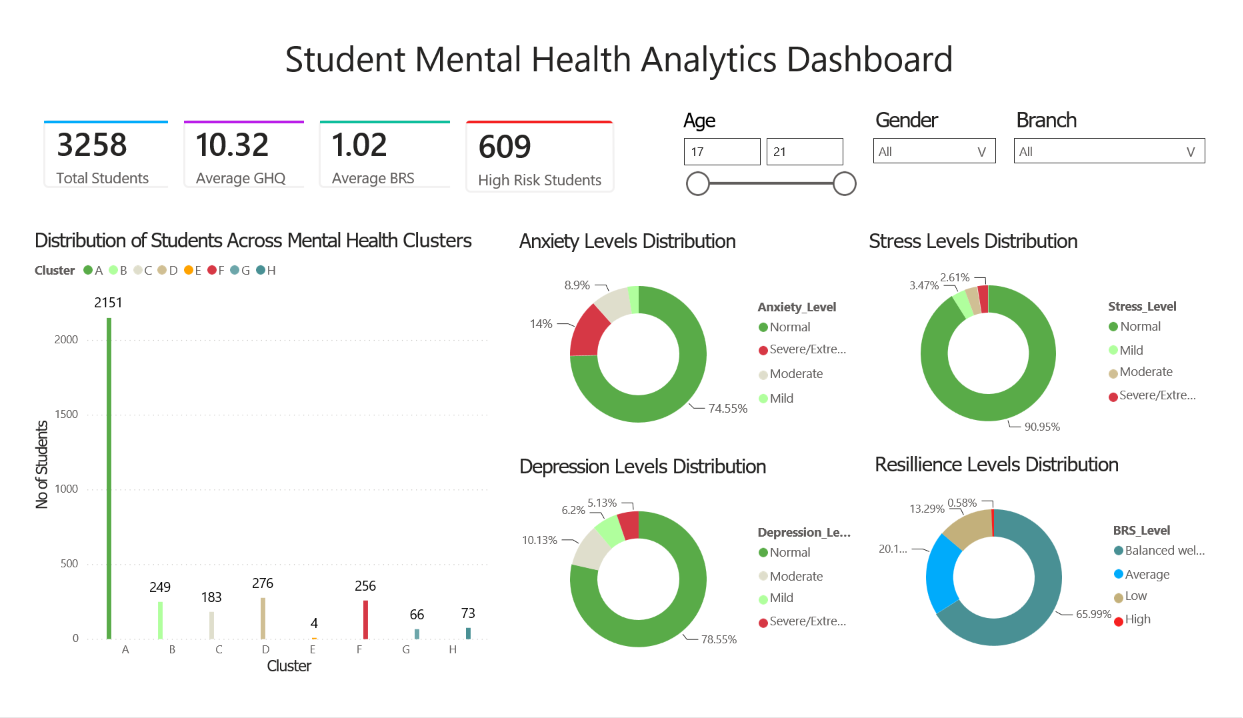

Layout of this report page (visuals, bound fields, positions):
{"tool":"powerbi","page":{"name":"Mental Health Overview","canvas":[1280,720],"ordinal":0},"visuals":[{"type":"textbox","box":[112.7,9.5,1055.6,96.8],"z":0},{"type":"cardVisual","fields":{"Data":["processing.Total Students"]},"box":[7.9,90.5,168.6,104.3],"z":0,"group":"g2"},{"type":"slicer","title":"Age","fields":{"Values":["processing.Age"]},"box":[693.7,91.1,206.3,155.6],"z":0,"group":"g1"},{"type":"group","id":"g1","title":"Group 2","box":[693.7,90.5,579.4,155.6],"z":1000},{"type":"cardVisual","fields":{"Data":["processing.Average GHQ"]},"box":[156.4,90.5,165.7,104.3],"z":2000,"group":"g2"},{"type":"clusteredColumnChart","title":"Distribution of Students Across Mental Health Clusters","fields":{"Category":["processing.Cluster"],"Series":["processing.Cluster"],"Y":["processing.No of Students"]},"box":[7.9,223.8,498.4,479.4],"z":2000},{"type":"cardVisual","fields":{"Data":["processing.Average BRS"]},"box":[302,90.5,175.7,104.3],"z":3000,"group":"g2"},{"type":"donutChart","title":"Anxiety Levels Distribution","fields":{"Category":["processing.Anxiety_Level"],"Y":["processing.No of Students"]},"box":[527,225.4,373,239.7],"z":3000},{"type":"cardVisual","fields":{"Data":["processing.High Risk Students"]},"box":[457.7,90.5,191.4,108.6],"z":4000,"group":"g2"},{"type":"donutChart","title":"Depression Levels Distribution","fields":{"Category":["processing.Depression_Level"],"Y":["processing.No of Students"]},"box":[527,465.1,373,239.7],"z":4000},{"type":"donutChart","title":"Stress Levels Distribution","fields":{"Y":["processing.No of Students"],"Category":["processing.Stress_Level"]},"box":[900,225.4,373,238.1],"z":5000},{"type":"donutChart","title":"Resillience Levels Distribution","fields":{"Category":["processing.BRS_Level"],"Y":["processing.No of Students"]},"box":[906.3,463.5,373,239.7],"z":6000},{"type":"group","id":"g2","title":"Group 1","box":[7.9,90.5,639.7,107.9],"z":7000},{"type":"slicer","fields":{"Values":["processing.Gender"]},"box":[898.7,90.5,151.4,90.6],"z":7000,"group":"g1"},{"type":"slicer","fields":{"Values":["processing.Branch"]},"box":[1048.9,90.5,223.8,103.7],"z":8000,"group":"g1"}]}

Visuals, with their boxes in screenshot pixels (x1, y1, x2, y2), scaled from the page's 1280x720 canvas onto the 1243x718 screenshot:
textbox: bbox=(109, 9, 1135, 106)
cardVisual - processing.Total Students: bbox=(8, 90, 171, 194)
"Age" slicer: bbox=(674, 91, 874, 246)
"Group 2" group: bbox=(674, 90, 1236, 245)
cardVisual - processing.Average GHQ: bbox=(152, 90, 313, 194)
"Distribution of Students Across Mental Health Clusters" clusteredColumnChart: bbox=(8, 223, 492, 701)
cardVisual - processing.Average BRS: bbox=(293, 90, 464, 194)
"Anxiety Levels Distribution" donutChart: bbox=(512, 225, 874, 464)
cardVisual - processing.High Risk Students: bbox=(444, 90, 630, 199)
"Depression Levels Distribution" donutChart: bbox=(512, 464, 874, 703)
"Stress Levels Distribution" donutChart: bbox=(874, 225, 1236, 462)
"Resillience Levels Distribution" donutChart: bbox=(880, 462, 1242, 701)
"Group 1" group: bbox=(8, 90, 629, 198)
slicer - processing.Gender: bbox=(873, 90, 1020, 181)
slicer - processing.Branch: bbox=(1019, 90, 1236, 194)
